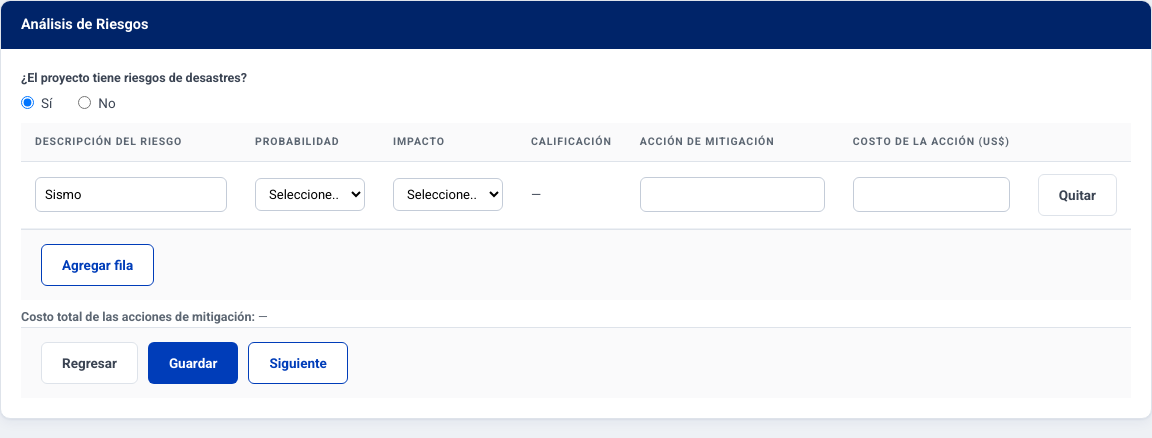
Test: presentación de los importes y de la tabla › conserva los decimales al separar
Type "9876.54" into the field named "Costo de la acción (US$) 1" at (931, 195), box [853,177,1010,212]
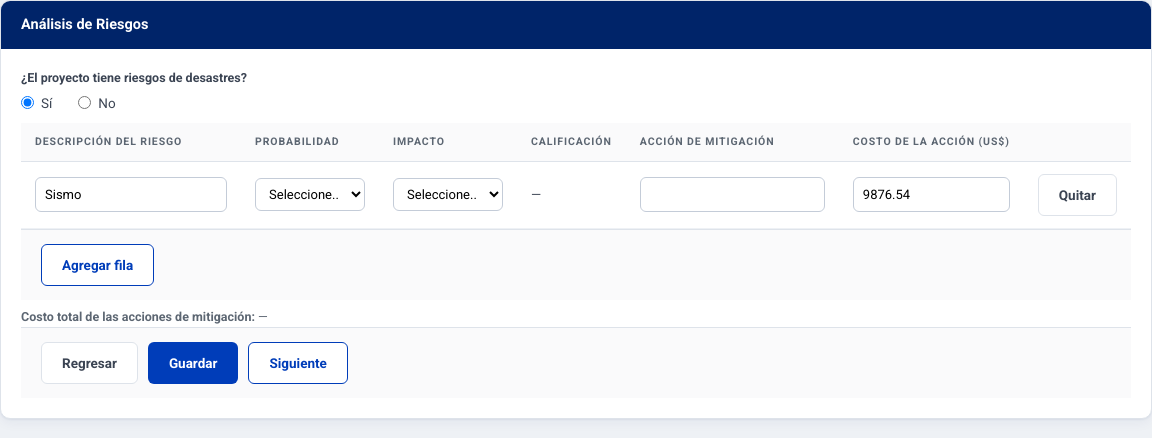
Leave the field named "Costo de la acción (US$) 1", box [853,177,1010,212]
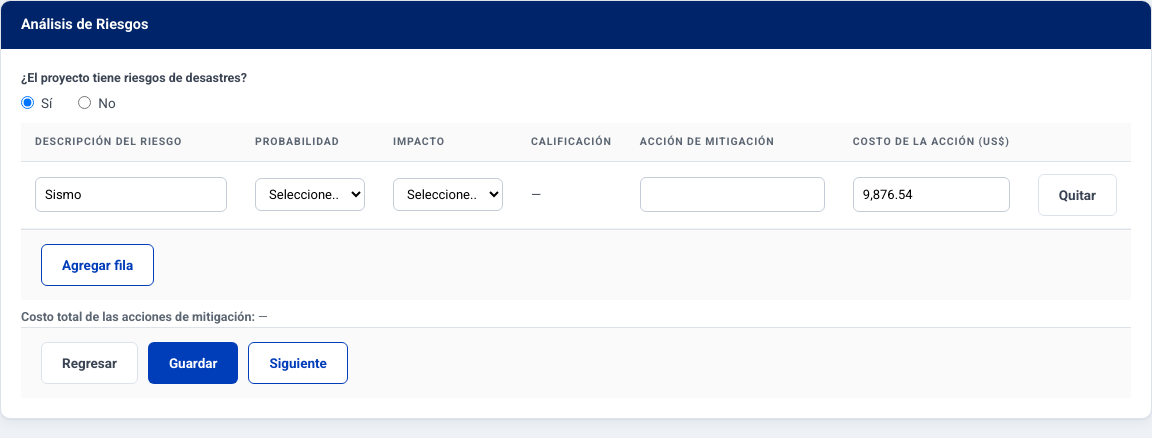
Check: the field named "Costo de la acción (US$) 1" holds "9,876.54", box [853,177,1010,212]
